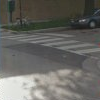crosswalk: (5, 34, 99, 54)
